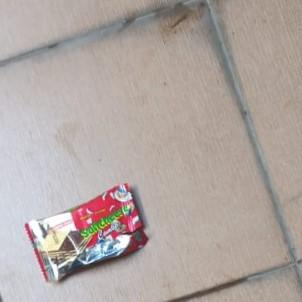Plastik: (24, 184, 148, 281)
